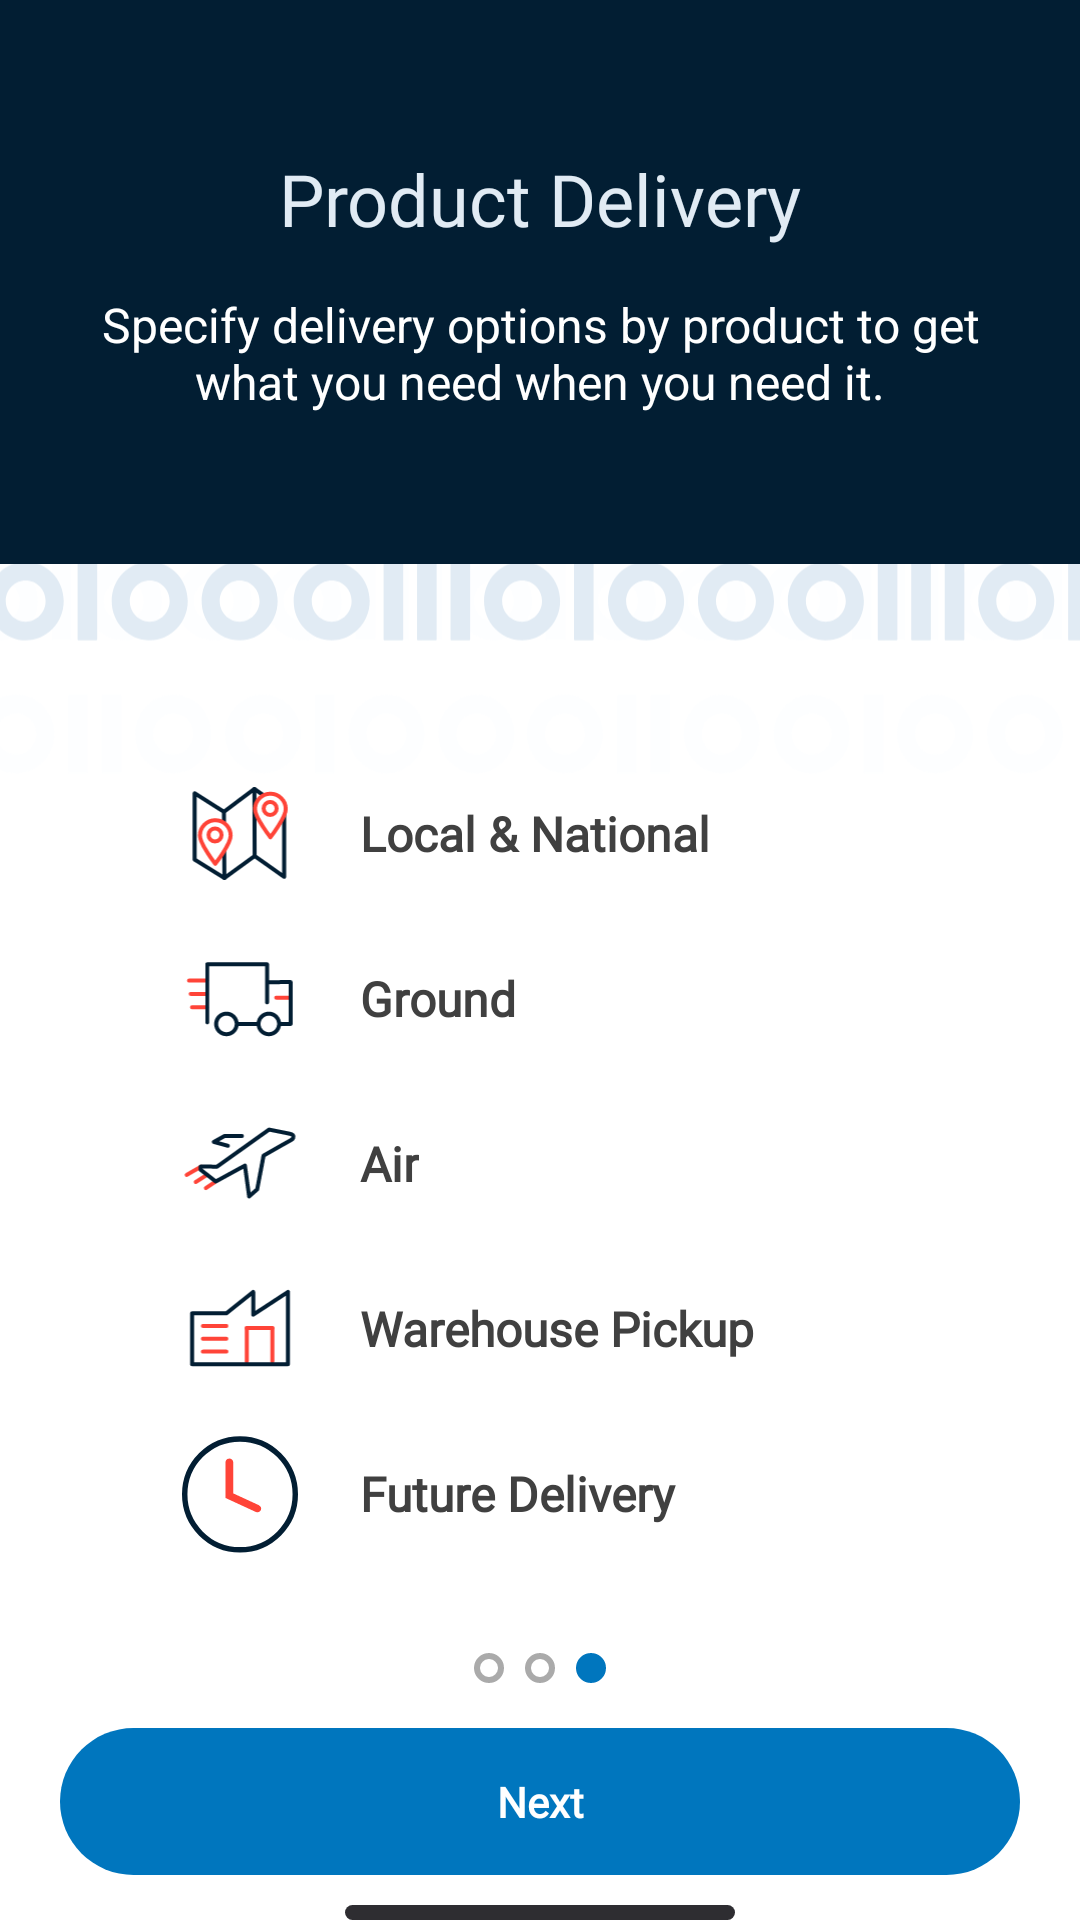

Point at icon controls on the screen. Image size 1080px x 1920px, points as [x,y].
air onboarding: [240,1163]
delivery onboarding: [239,999]
indicator: [489,1668], [540,1668], [591,1668]
warehouse onboarding: [240,1328]
